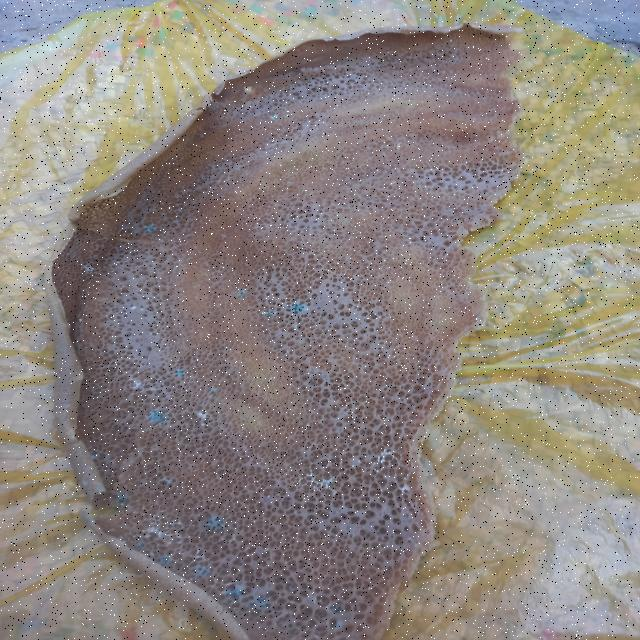injera_mold: (151, 409, 168, 424), (191, 565, 208, 576), (195, 548, 208, 562), (207, 516, 222, 528), (226, 588, 243, 598), (115, 491, 128, 504), (290, 302, 304, 313), (318, 478, 332, 489), (144, 222, 156, 234), (161, 531, 173, 543), (305, 470, 316, 482), (159, 555, 171, 566), (397, 484, 410, 494), (329, 604, 342, 614), (196, 411, 207, 422), (262, 308, 274, 318), (243, 86, 255, 96), (237, 289, 250, 298), (269, 114, 281, 122), (159, 476, 171, 484), (174, 530, 182, 542), (174, 368, 183, 378), (133, 380, 143, 389), (382, 450, 393, 458), (84, 264, 94, 272), (230, 534, 238, 543), (148, 528, 158, 535), (256, 596, 266, 602), (378, 456, 384, 465), (150, 516, 159, 522), (90, 454, 100, 459), (77, 316, 85, 322), (304, 423, 310, 431), (135, 542, 143, 548), (148, 522, 170, 524), (130, 305, 137, 311), (209, 386, 216, 392), (269, 376, 276, 382), (175, 521, 183, 526), (260, 604, 270, 608), (263, 548, 269, 554), (144, 534, 150, 540), (311, 484, 317, 490), (286, 622, 292, 628), (334, 623, 340, 629), (83, 480, 88, 487), (248, 602, 255, 607), (395, 456, 399, 464), (128, 376, 134, 381), (266, 494, 271, 500), (325, 463, 331, 468), (119, 286, 126, 290), (253, 608, 260, 612), (374, 468, 379, 473), (402, 476, 407, 481), (448, 39, 454, 43), (405, 462, 409, 468), (333, 488, 337, 494), (122, 538, 126, 544), (386, 51, 390, 56), (350, 464, 355, 468), (422, 494, 427, 498), (298, 458, 302, 463), (150, 388, 156, 391), (129, 538, 132, 544), (140, 308, 144, 312), (110, 528, 114, 532), (140, 508, 148, 510), (372, 462, 376, 466), (308, 446, 312, 450), (408, 537, 412, 541), (116, 260, 119, 264), (96, 280, 99, 284), (200, 423, 206, 425), (300, 478, 303, 482), (132, 535, 136, 538), (291, 585, 294, 589), (133, 511, 138, 513), (252, 520, 255, 523), (358, 458, 360, 462), (98, 492, 101, 494), (367, 588, 370, 590), (188, 535, 190, 538), (198, 514, 200, 517), (380, 488, 381, 493), (104, 498, 105, 500)
